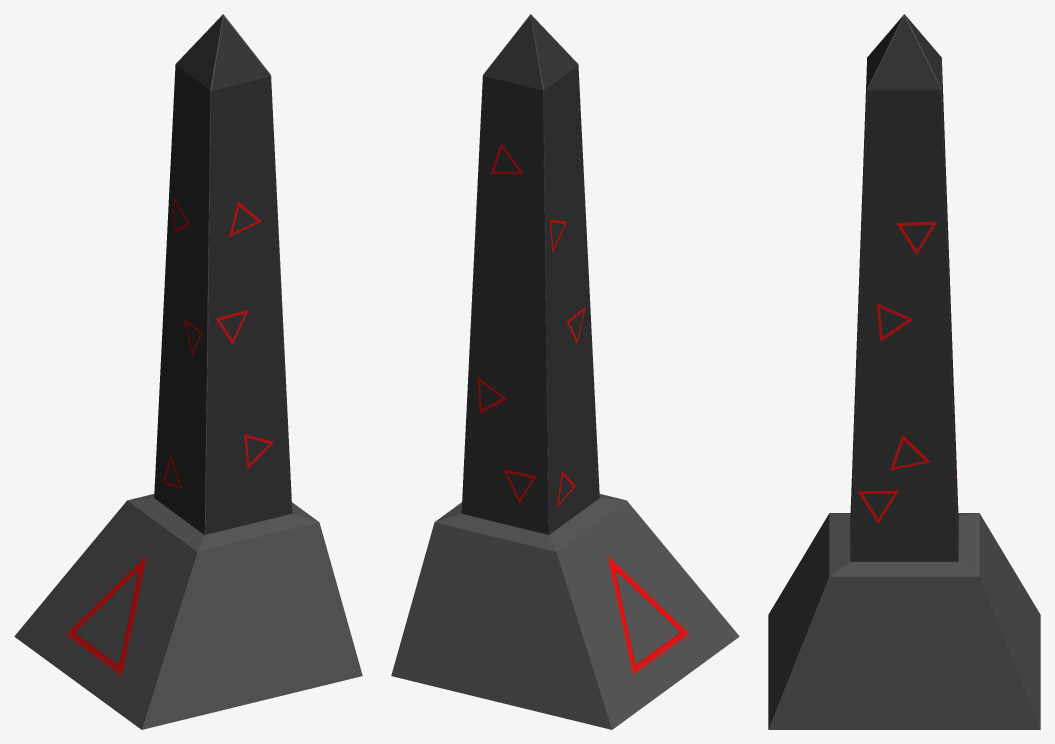
File: RedObelisk.FBX
The picture shows the model from 3 angles, left to right: view 1: azimuth 30°, elevation 25°; view 2: azimuth 150°, elevation 25°; view 3: azimuth 270°, elevation 25°; orthographic projection. The views are drawn at different scales.
Parts seen in each view (by area): view 1: Box001; view 2: Box001; view 3: Box001.
Part boxes in pixels (x1,y1,x2,y2): Box001: (14, 14, 362, 729); Box001: (391, 14, 739, 729); Box001: (768, 14, 1040, 729).
Size of the model in its own units: 38.74 by 106 by 38.74.
1 material, 1 textured.
